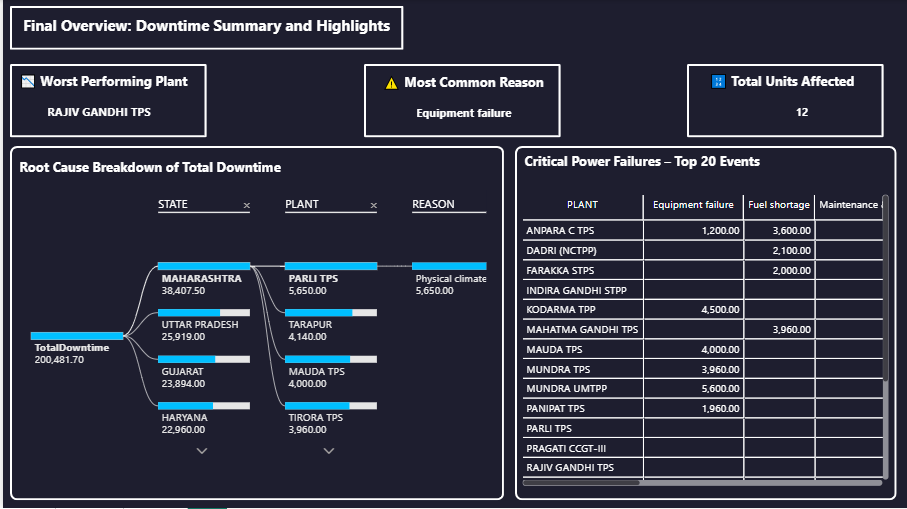

This screenshot's page, from the dashboard's own definition file:
{"tool":"powerbi","page":{"name":"final","canvas":[1280,720],"ordinal":2},"visuals":[{"type":"shape","box":[10.1,90.7,278.8,104.1],"z":0},{"type":"card","fields":{"Values":["Sheet1 (2).WorstPlant"]},"box":[35.3,124.3,201.6,70.6],"z":1000},{"type":"shape","box":[512.3,90.7,278.8,104.1],"z":2000},{"type":"card","fields":{"Values":["Sheet1 (2).TopReasonGroup"]},"box":[567.8,129.3,169.7,65.5],"z":3000},{"type":"shape","box":[969.2,90.7,278.8,104.1],"z":4000},{"type":"card","fields":{"Values":["Sheet1 (2).UNIT"]},"box":[1076.7,124.3,110.9,70.6],"z":5000},{"type":"shape","box":[10.1,8.4,557.7,62.2],"z":6000},{"type":"textbox","box":[0,15.1,640,50.4],"z":7000},{"type":"textbox","box":[18.5,95.7,270.4,52.1],"z":8000},{"type":"textbox","box":[532.5,97.4,270.4,52.1],"z":9000},{"type":"textbox","box":[996.1,95.7,270.4,52.1],"z":10000},{"type":"shape","box":[10.1,206.6,700.5,502.3],"z":11000},{"type":"decompositionTreeVisual","fields":{"Analyze":["Sheet1 (2).TotalDowntime"],"ExplainBy":["Sheet1 (2).STATE","Sheet1 (2).PLANT","Sheet1 (2).REASONS_REGROUPED","Sheet1 (2).UNIT"]},"box":[10.1,265.4,680.3,423.3],"z":12000},{"type":"textbox","box":[18.5,218.4,388,52.1],"z":13000},{"type":"shape","box":[725.7,206.6,540.9,502.3],"z":14000},{"type":"pivotTable","fields":{"Rows":["Sheet1 (2).PLANT"],"Columns":["Sheet1 (2).REASONS_REGROUPED"],"Values":["Sheet1 (2).TOTAL_DOWNTIME"]},"box":[730.7,270.4,529.1,423.3],"z":15000},{"type":"textbox","box":[734.1,210,388,35.3],"z":16000}]}

Visuals, with their boxes in screenshot pixels (x1, y1, x2, y2), scaled from the page's 1280x720 canvas onto the 907x509 screenshot:
shape: region(7, 64, 205, 138)
card - Sheet1 (2).WorstPlant: region(25, 88, 168, 138)
shape: region(363, 64, 561, 138)
card - Sheet1 (2).TopReasonGroup: region(402, 91, 523, 138)
shape: region(687, 64, 884, 138)
card - Sheet1 (2).UNIT: region(763, 88, 842, 138)
shape: region(7, 6, 402, 50)
textbox: region(0, 11, 454, 46)
textbox: region(13, 68, 205, 104)
textbox: region(377, 69, 569, 106)
textbox: region(706, 68, 897, 104)
shape: region(7, 146, 504, 501)
decompositionTreeVisual - Sheet1 (2).TotalDowntime x Sheet1 (2).STATE: region(7, 188, 489, 487)
textbox: region(13, 154, 288, 191)
shape: region(514, 146, 898, 501)
pivotTable - Sheet1 (2).PLANT x Sheet1 (2).REASONS_REGROUPED: region(518, 191, 893, 490)
textbox: region(520, 148, 795, 173)
